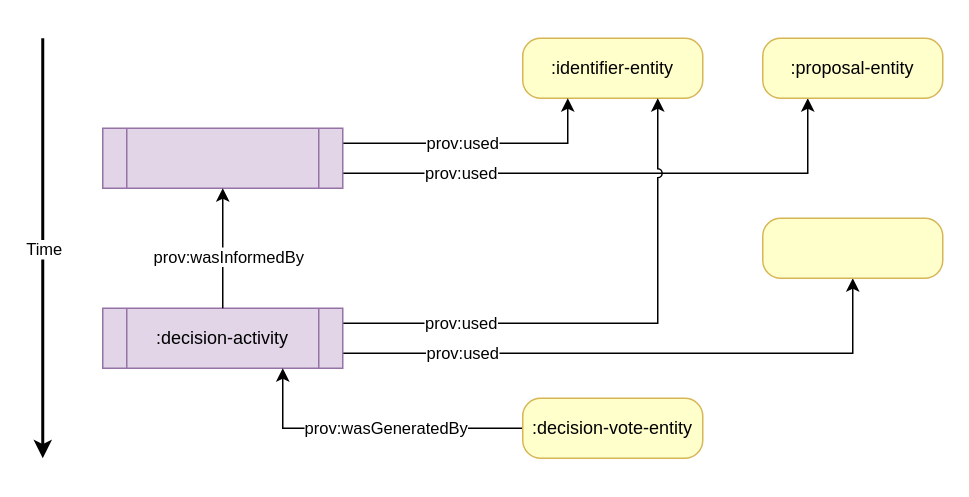
This 969x497 diagram has some shape labels left out. The shapes that lost their labels are listed below. From the top down, each one's centre as x and y in pixels, then its label:
pixel 222 157: :proposal-activity
pixel 852 247: :decision-entity
